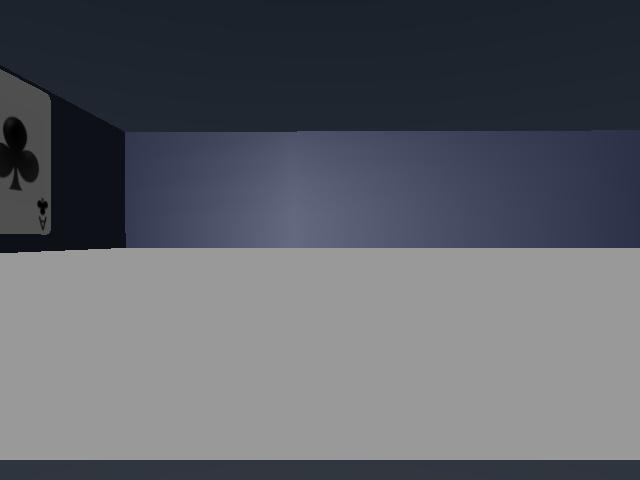club: (0, 70, 50, 234)
